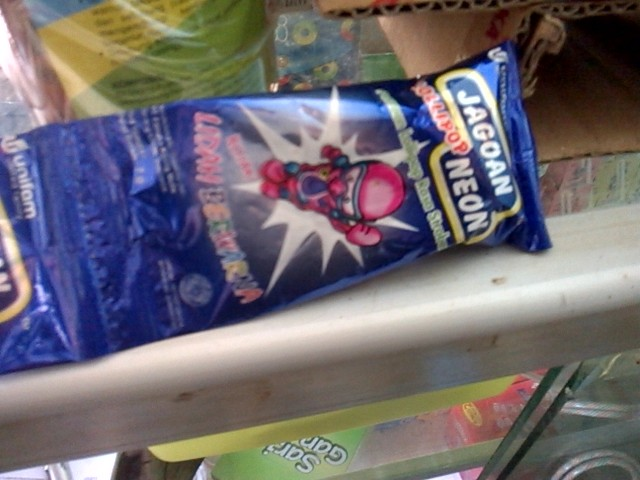jagoan neon: (70, 39, 552, 348)
